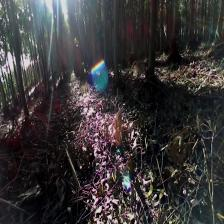trunk: (8, 18, 29, 119), (147, 0, 159, 77), (112, 0, 120, 84)
